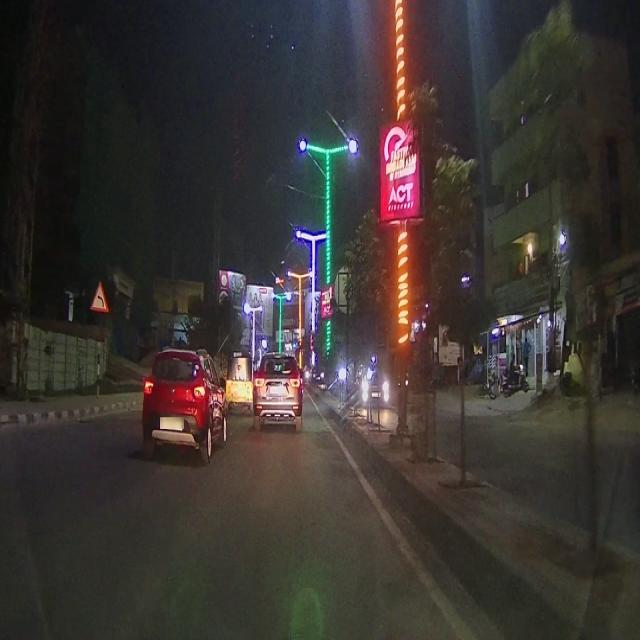left-hand-curve: (91, 280, 107, 310)
